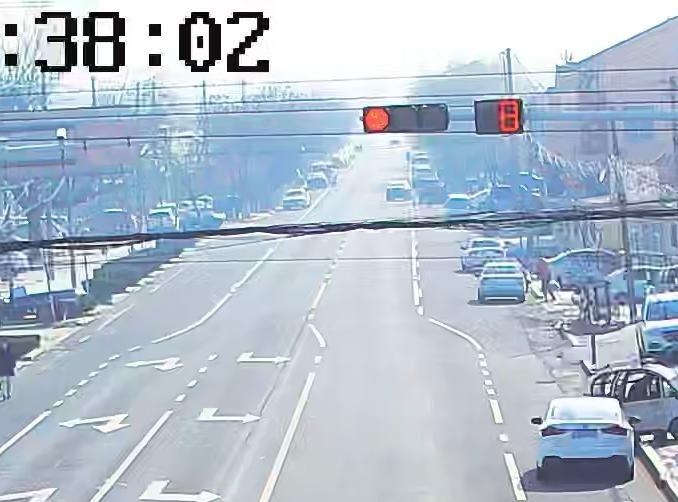red: (362, 109, 391, 130)
redtime: (483, 100, 521, 132)
